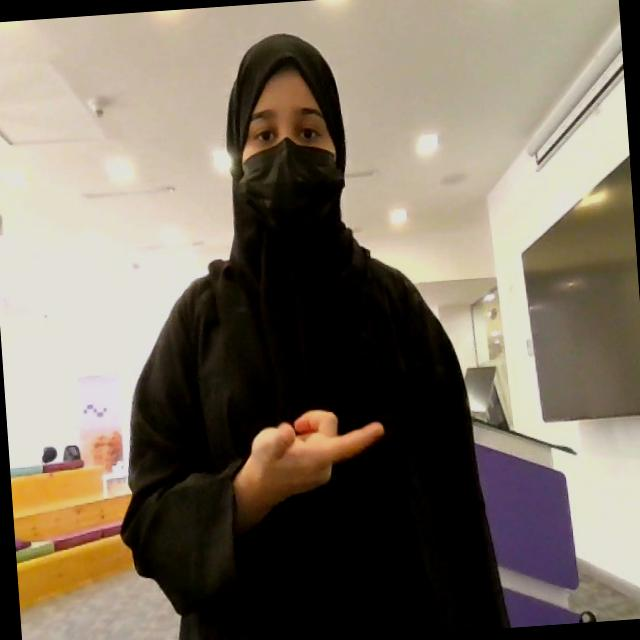dispensing: (226, 402, 390, 530)
